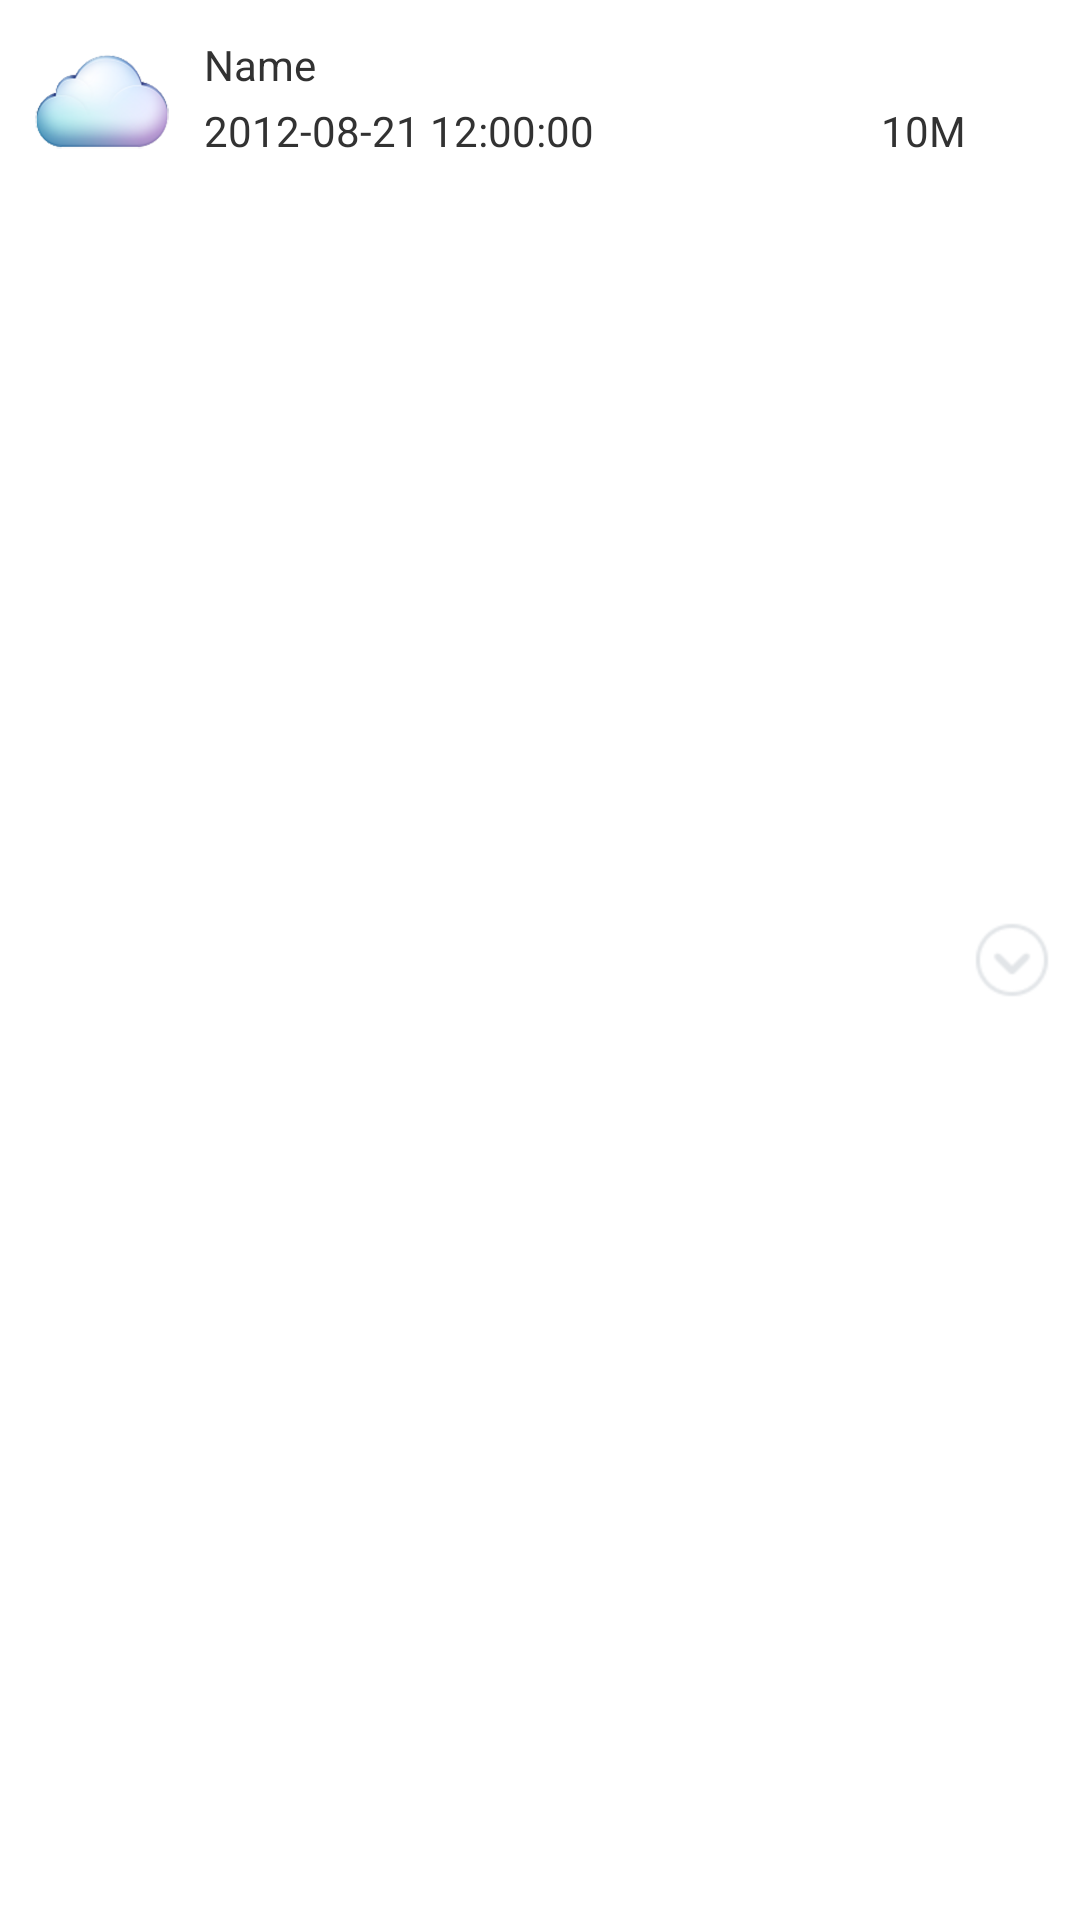

Icon bounding boxes for this 1080 × 1920 phone screenshot, format {"left": x1, "top": y1, "right": x2, "bottom": y2}:
listitem drop: {"left": 977, "top": 925, "right": 1047, "bottom": 995}
